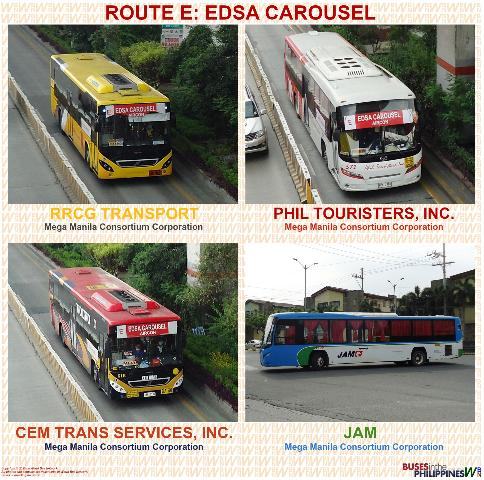bus: (282, 31, 423, 194), (49, 266, 184, 399), (47, 47, 176, 184), (259, 309, 467, 373)
